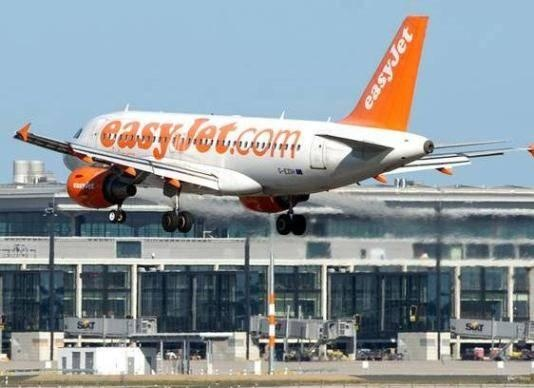airplane: (11, 15, 525, 220)
